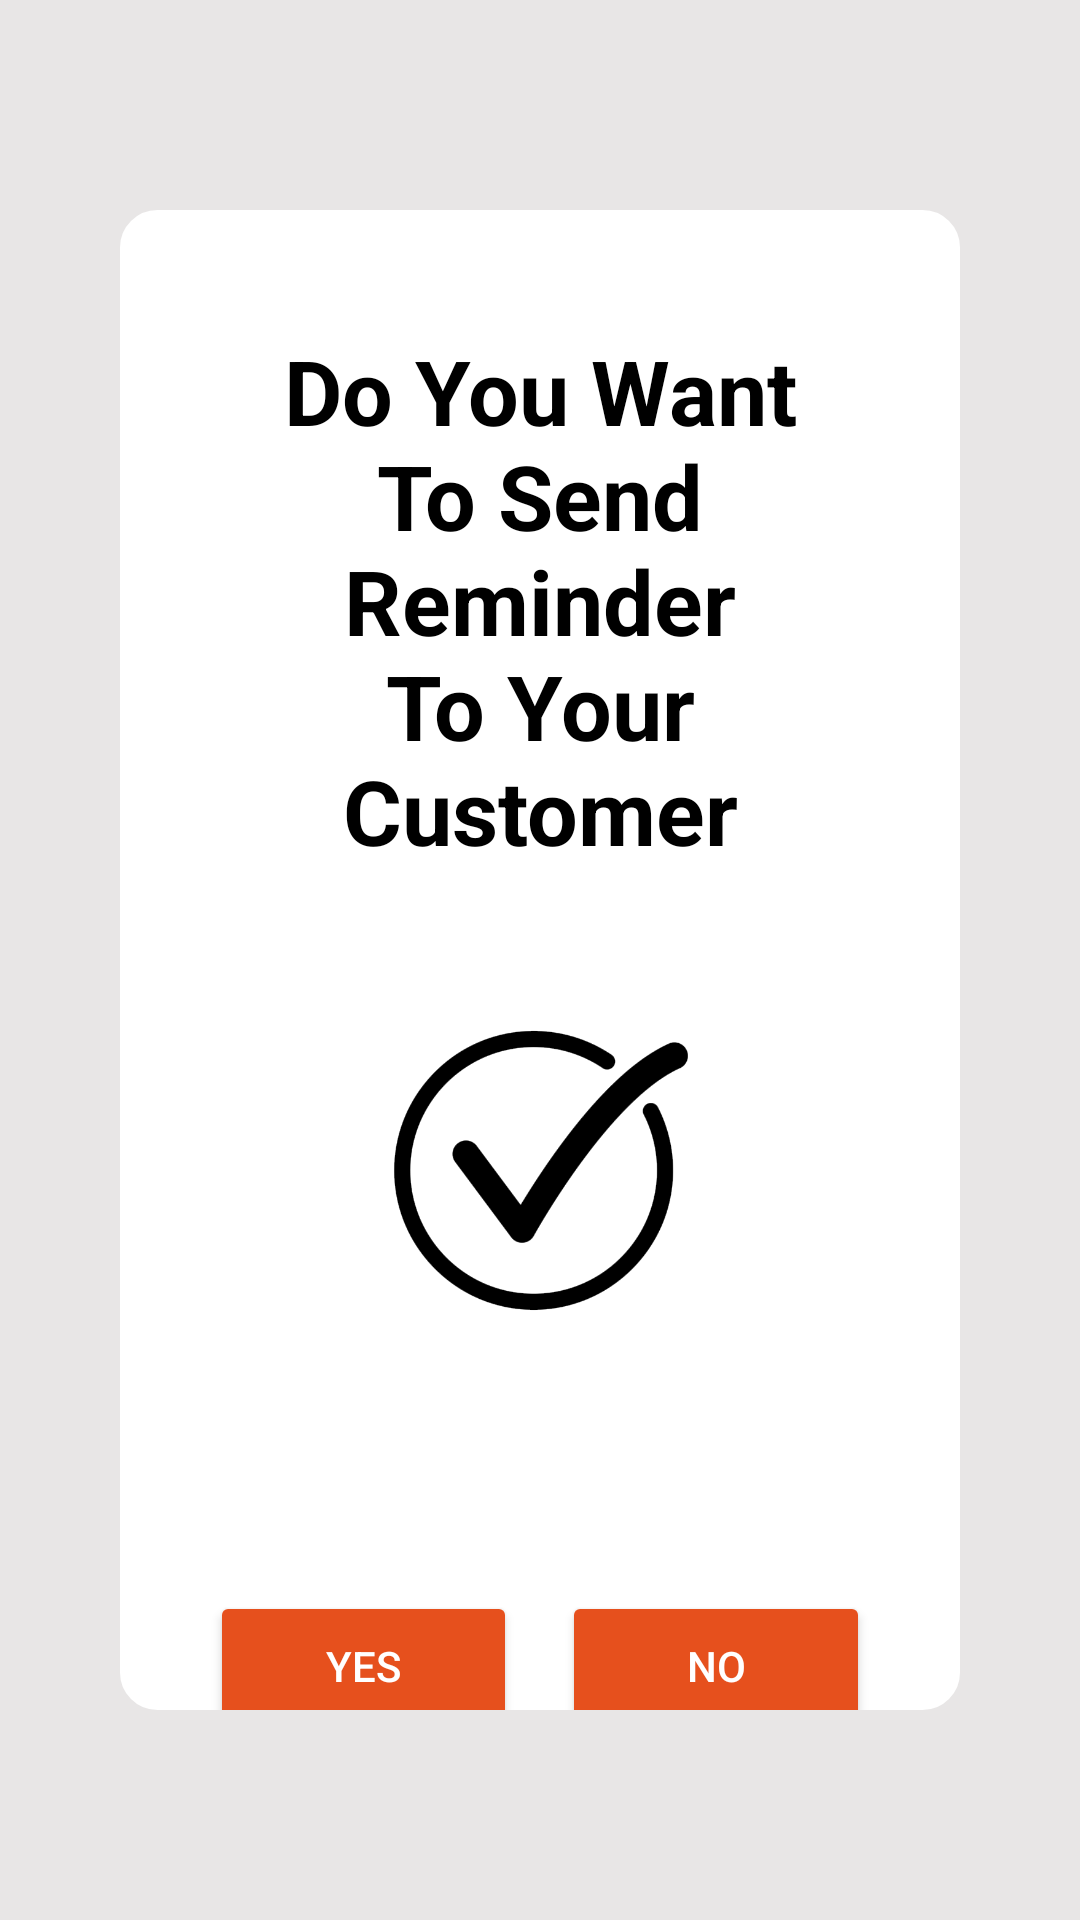

Icon bounding boxes for this 1080×1920 phone screenshot, format (x1, y1, x2, y2):
check: (394, 1031, 688, 1310)
